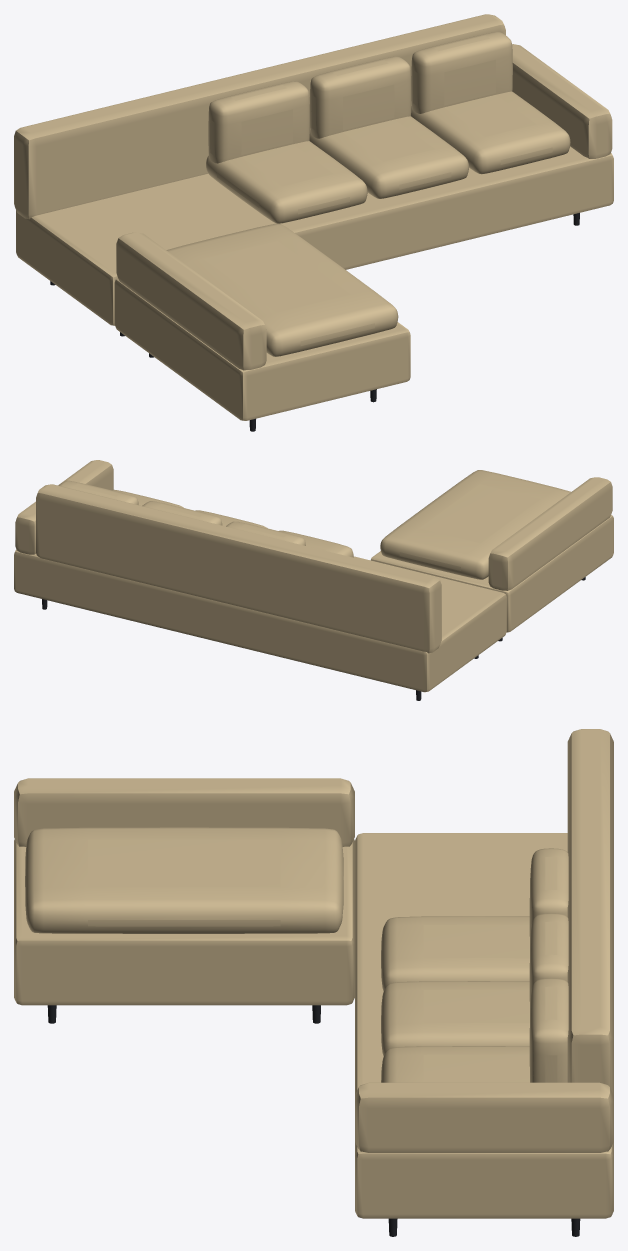
Rendered from sofa-corner.glb.
3 renders of one model, top to bottom at view 1: azimuth 30°, elevation 25°; view 2: azimuth 150°, elevation 25°; view 3: azimuth 270°, elevation 25°, orthographic. The views are drawn at different scales.
Parts seen in each view (by area): view 1: sofa-corner; view 2: sofa-corner; view 3: sofa-corner.
Part boxes in pixels (x1,y1,x2,y2): sofa-corner: (14, 14, 613, 431); sofa-corner: (14, 460, 613, 700); sofa-corner: (14, 729, 613, 1236).
Size of the model in its own units: 2.82 by 0.82 by 2.2.
